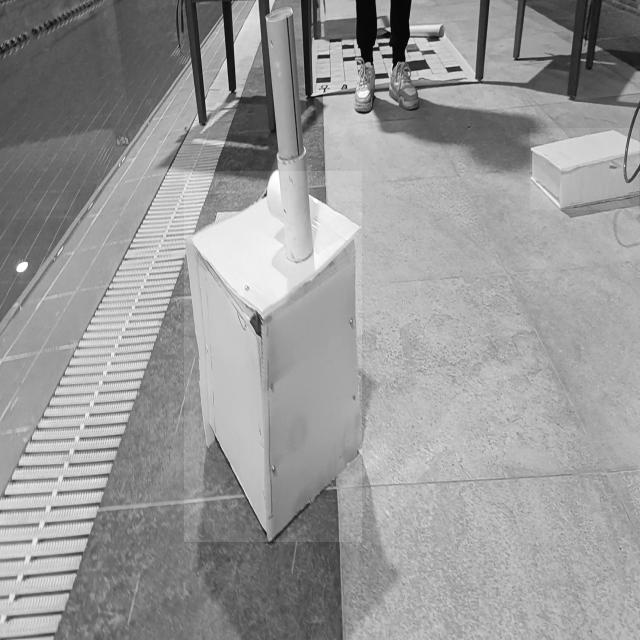Cube: (184, 171, 362, 542)
Cuboid: (530, 128, 639, 210)
